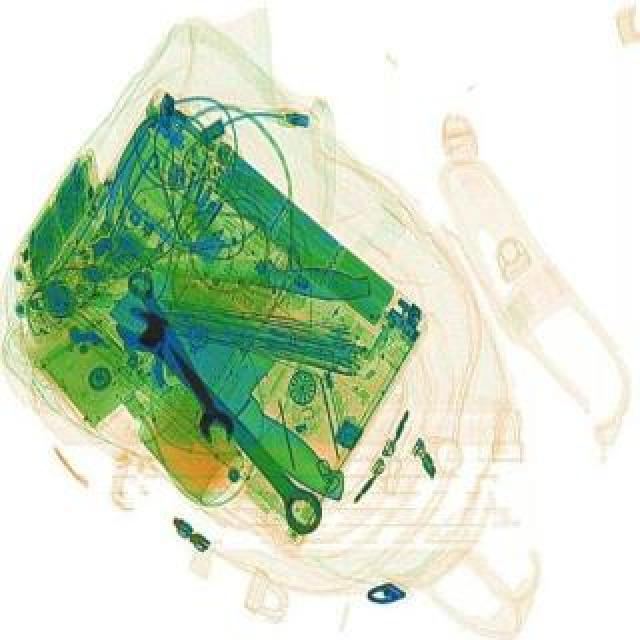knife: (98, 250, 396, 508), (142, 246, 372, 304)
scissors: (106, 298, 338, 538)
